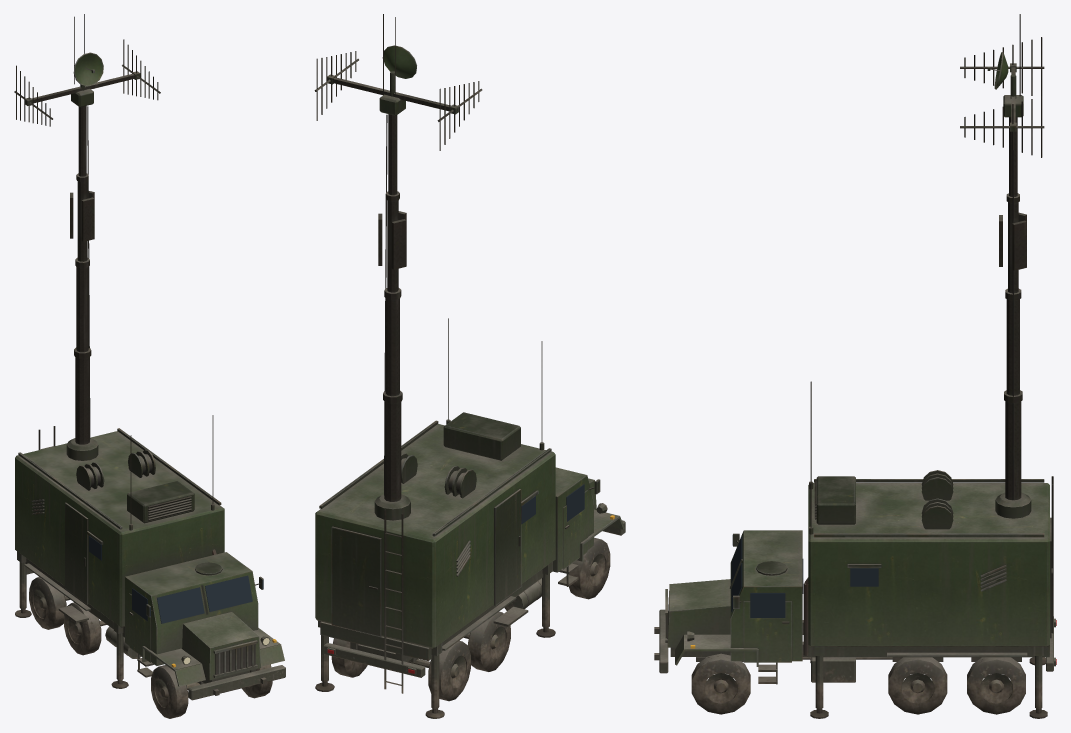
File: Weathered_Jammer.fbx
3 views of the same model, side by side, from view 1: azimuth 30°, elevation 25°; view 2: azimuth 150°, elevation 25°; view 3: azimuth 270°, elevation 25° (orthographic). The views are drawn at different scales.
Parts seen in each view (by area): view 1: Enemy_Jammer_Mesh, Turret; view 2: Enemy_Jammer_Mesh, Turret; view 3: Enemy_Jammer_Mesh, Turret.
Boxes of the visible parts, bbox=[...] form: Enemy_Jammer_Mesh: bbox=[15, 415, 285, 718]; Turret: bbox=[14, 14, 160, 460]; Enemy_Jammer_Mesh: bbox=[315, 318, 625, 718]; Turret: bbox=[314, 14, 482, 520]; Enemy_Jammer_Mesh: bbox=[654, 381, 1056, 718]; Turret: bbox=[960, 14, 1044, 518].
Bounding box in the file's own units: 2.78 × 13.18 × 7.16.
